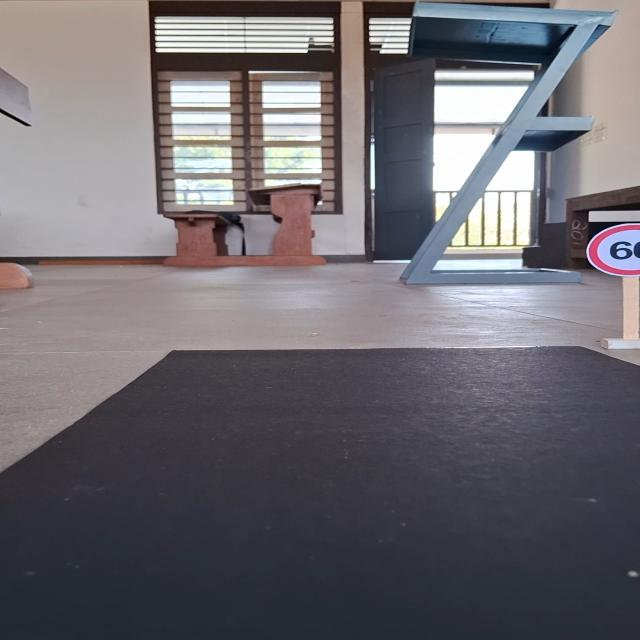Speed60: (585, 222, 640, 280)
